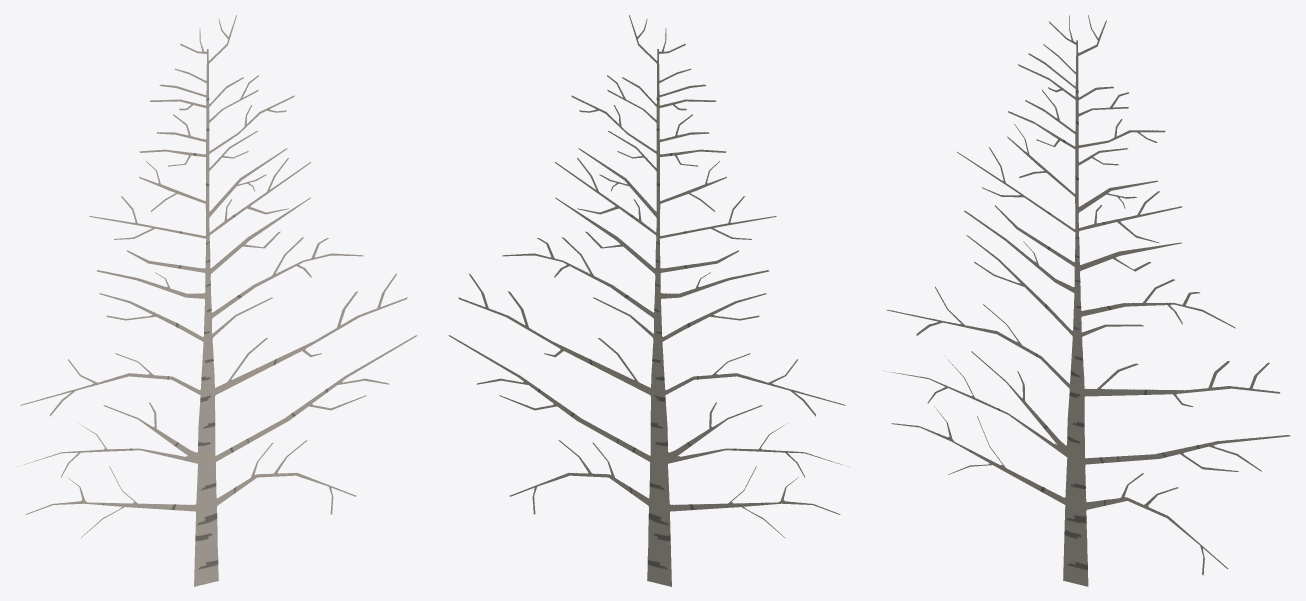
File: Birch_01.fbx
3 renders of one model, left to right at view 1: azimuth 30°, elevation 25°; view 2: azimuth 150°, elevation 25°; view 3: azimuth 330°, elevation 25°, orthographic.
Parts seen in each view (by area): view 1: nurbsToPoly1; view 2: nurbsToPoly1; view 3: nurbsToPoly1.
Part boxes in pixels (left/top/right/bottom): nurbsToPoly1: left=17, top=15, right=417, bottom=586; nurbsToPoly1: left=448, top=15, right=848, bottom=586; nurbsToPoly1: left=883, top=15, right=1290, bottom=586.
Bounding box in the file's own units: 17.56 × 23.35 × 0.
1 material, 1 textured.
